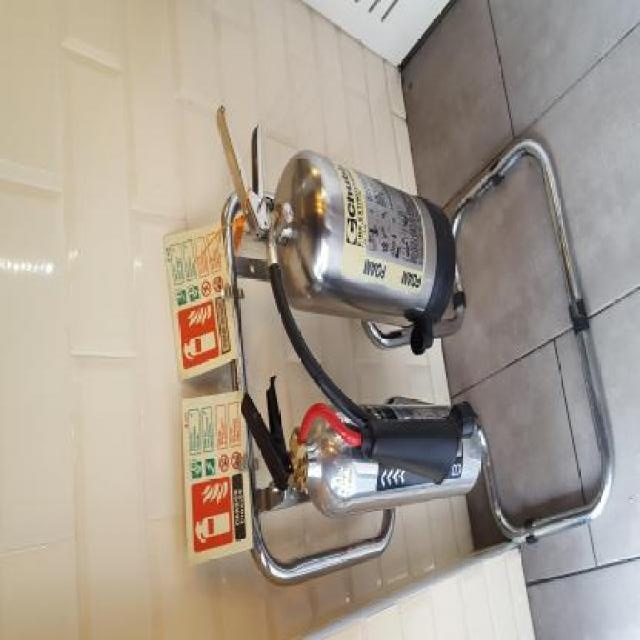fire extinguisher: (214, 101, 455, 328), (241, 377, 484, 521)
